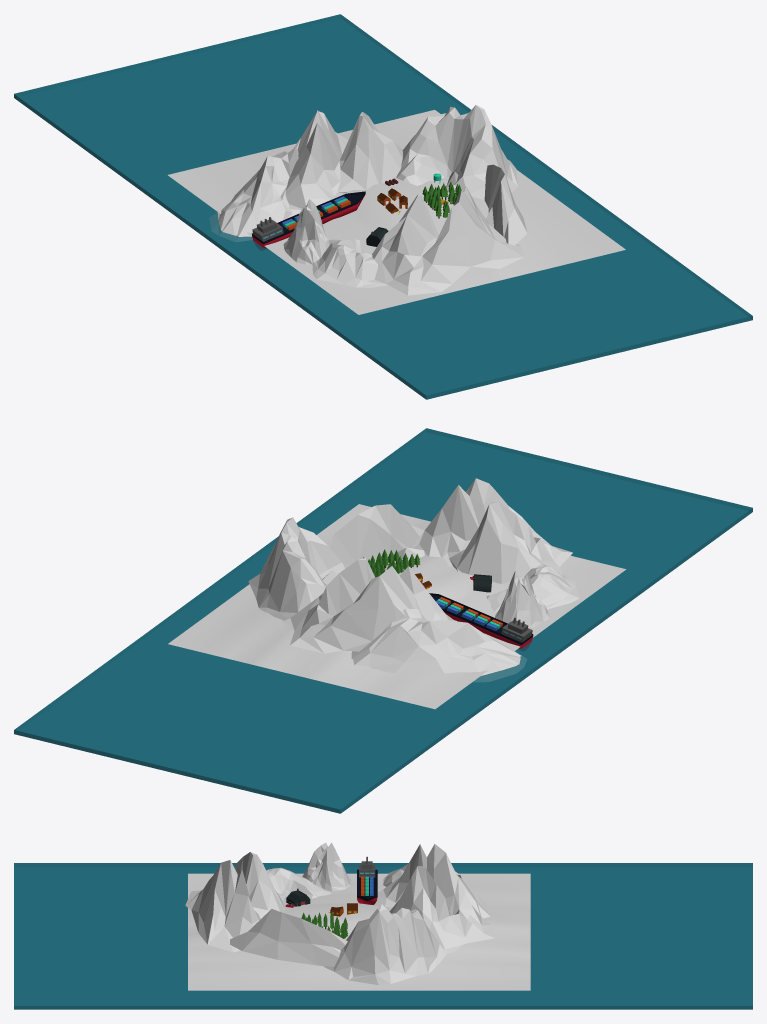
3 views of the same model, one above another, from view 1: azimuth 30°, elevation 25°; view 2: azimuth 150°, elevation 25°; view 3: azimuth 270°, elevation 25° (orthographic). The views are drawn at different scales.
Parts seen in each view (by area): view 1: water, Landscape, Landscape.2 (×2), Landscape.5 (×2), Landscape.1 (×2), Landscape.3, Cylinder; view 2: water, Landscape.2 (×2), Landscape, Landscape.1 (×2), Landscape.5 (×2), Landscape.3, Cylinder; view 3: water, Landscape, Landscape.2 (×2), Landscape.5 (×2), Landscape.3, Landscape.1 (×2), Cylinder.
Part boxes in pixels (x1,y1,x2,y2): water: [14, 14, 752, 399]; Landscape: [168, 110, 625, 314]; Landscape.2 (×2): [285, 110, 523, 295]; Landscape.5 (×2): [312, 105, 517, 288]; Landscape.1 (×2): [209, 147, 329, 264]; Landscape.3: [446, 164, 527, 245]; Cylinder: [252, 191, 365, 249]; water: [14, 428, 752, 813]; Landscape.2 (×2): [282, 478, 572, 653]; Landscape: [168, 504, 625, 709]; Landscape.1 (×2): [351, 570, 549, 681]; Landscape.5 (×2): [248, 517, 579, 620]; Landscape.3: [322, 504, 424, 584]; Cylinder: [429, 593, 533, 650]; water: [14, 863, 752, 1009]; Landscape: [188, 873, 530, 990]; Landscape.2 (×2): [185, 844, 494, 952]; Landscape.5 (×2): [266, 867, 446, 985]; Landscape.3: [230, 909, 347, 966]; Landscape.1 (×2): [302, 842, 490, 918]; Cylinder: [357, 869, 377, 904].
Size of the model in its own units: 266 by 67.61 by 566.
